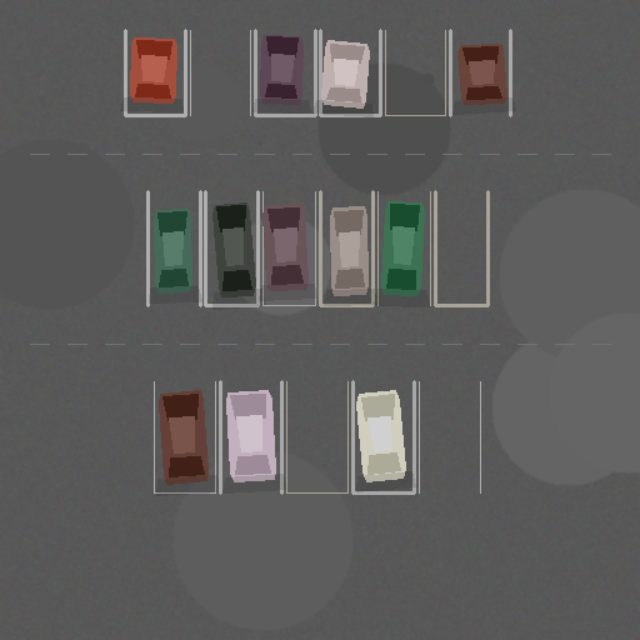space-empty: (286, 381, 347, 492), (419, 381, 480, 492), (435, 191, 487, 305), (190, 30, 250, 115), (385, 30, 445, 115)
space-occupied: (154, 381, 215, 492), (220, 381, 281, 492), (353, 381, 414, 492), (147, 191, 200, 305), (320, 191, 373, 305), (377, 191, 430, 305), (205, 191, 257, 305), (263, 191, 315, 305), (125, 30, 185, 115), (255, 30, 315, 115), (320, 30, 380, 115), (450, 30, 510, 115)
